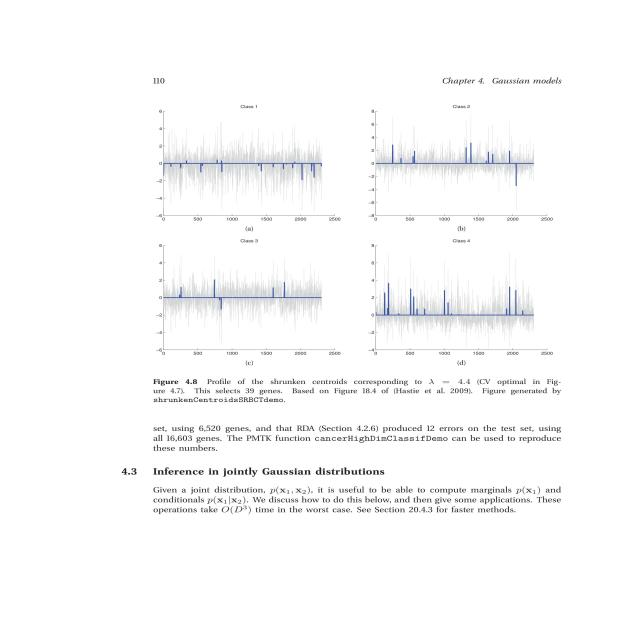diagram: (119, 97, 605, 410)
